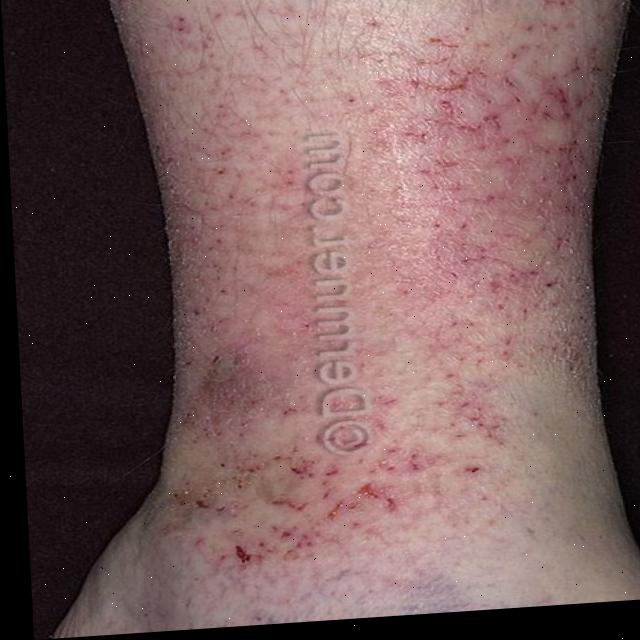Eczema: (181, 17, 569, 549)
